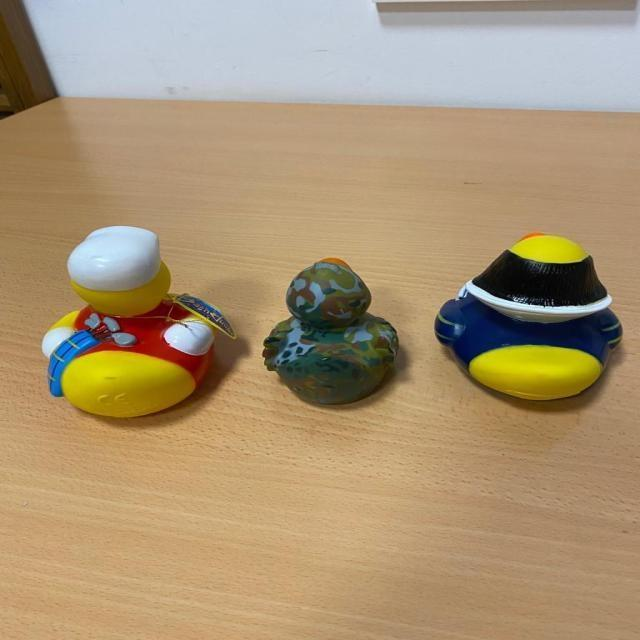rubber-duck: (41, 225, 232, 415), (434, 232, 620, 398), (262, 257, 396, 402)
